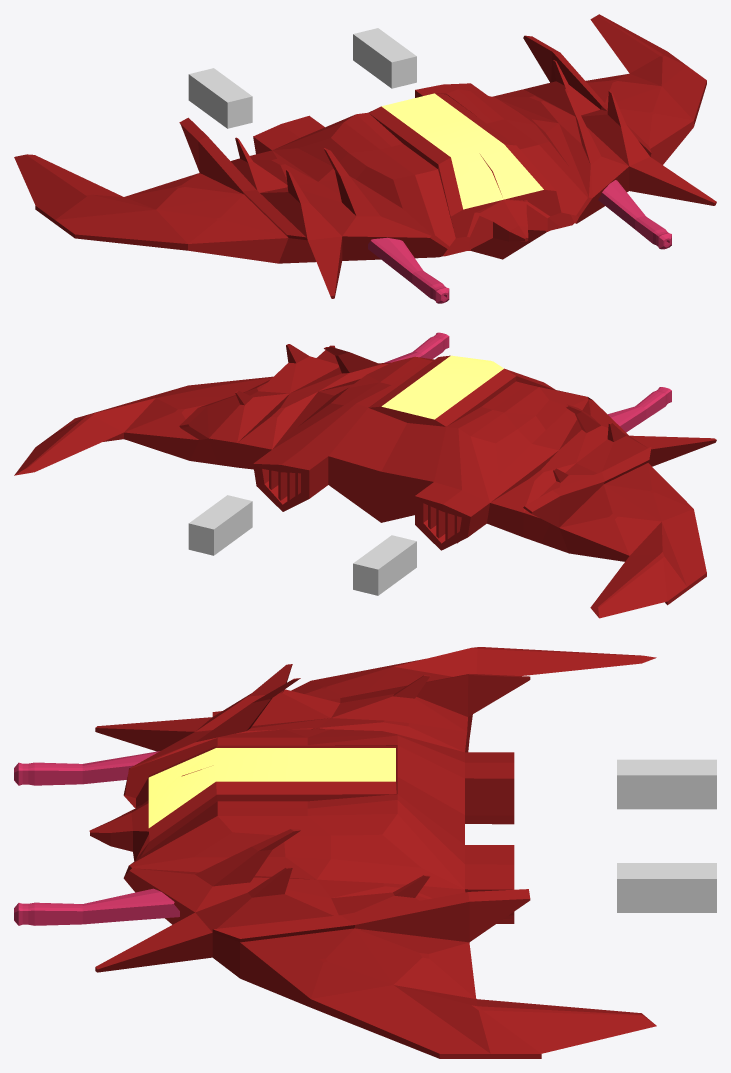
File: enemy_ship.glb
The picture shows the model from 3 angles, top to bottom: view 1: azimuth 30°, elevation 25°; view 2: azimuth 150°, elevation 25°; view 3: azimuth 270°, elevation 25°; orthographic projection. The views are drawn at different scales.
Parts seen in each view (by area): view 1: MainObject, Window, Cube, Enemy_Ship.001; view 2: MainObject, Cube, Window, Enemy_Ship.001; view 3: MainObject, Cube, Window, Enemy_Ship.001.
Part boxes in pixels (x1,y1,x2,y2): MainObject: [14, 14, 716, 298]; Window: [381, 93, 543, 209]; Cube: [188, 28, 416, 128]; Enemy_Ship.001: [368, 180, 671, 303]; MainObject: [14, 344, 716, 618]; Cube: [188, 495, 416, 595]; Window: [381, 355, 503, 419]; Enemy_Ship.001: [384, 332, 671, 432]; MainObject: [89, 647, 656, 1058]; Cube: [617, 759, 716, 912]; Window: [148, 748, 395, 827]; Enemy_Ship.001: [14, 751, 179, 925].
Size of the model in its own units: 5.98 by 0.8918 by 4.47.
